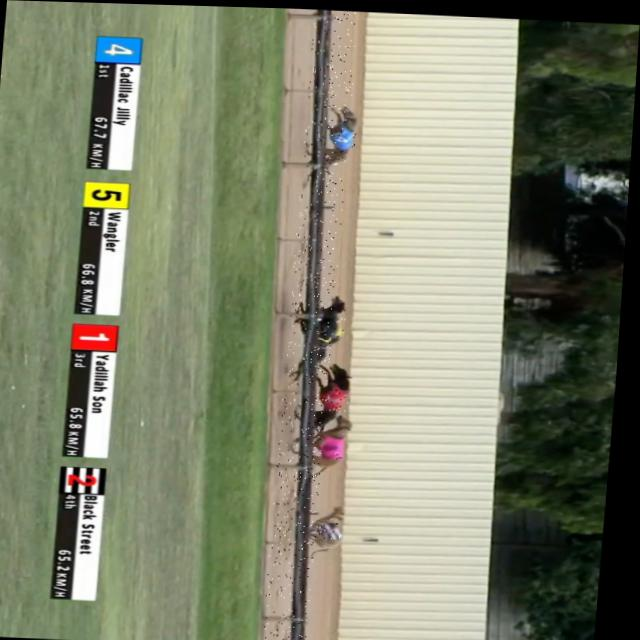dog_eight: (319, 436, 349, 459)
dog_four: (329, 122, 356, 146)
dog_one: (319, 386, 353, 410)
dog_seven: (316, 326, 337, 344)
dog_two: (325, 314, 348, 336), (319, 520, 346, 536)
rail: (297, 8, 331, 640)
